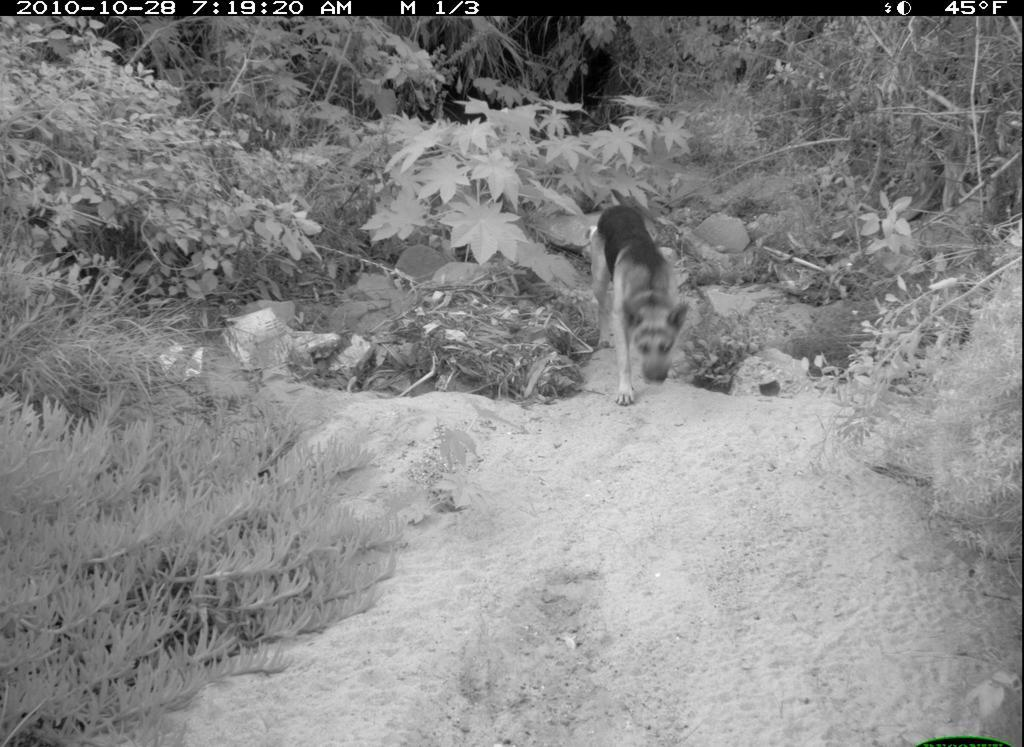dog: (587, 199, 699, 410)
